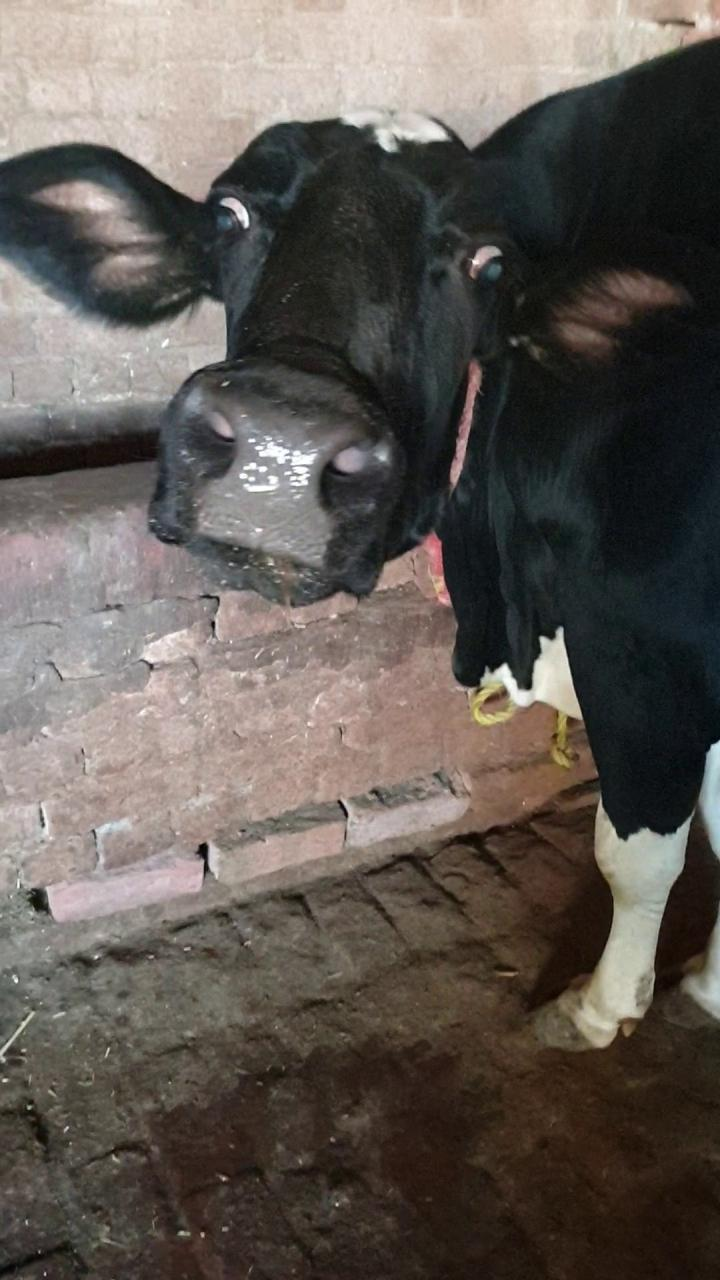cows: (140, 38, 568, 675)
